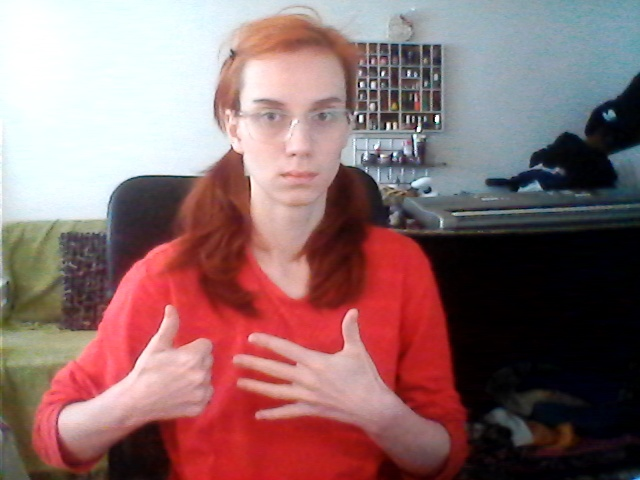sest: (142, 300, 384, 443)
